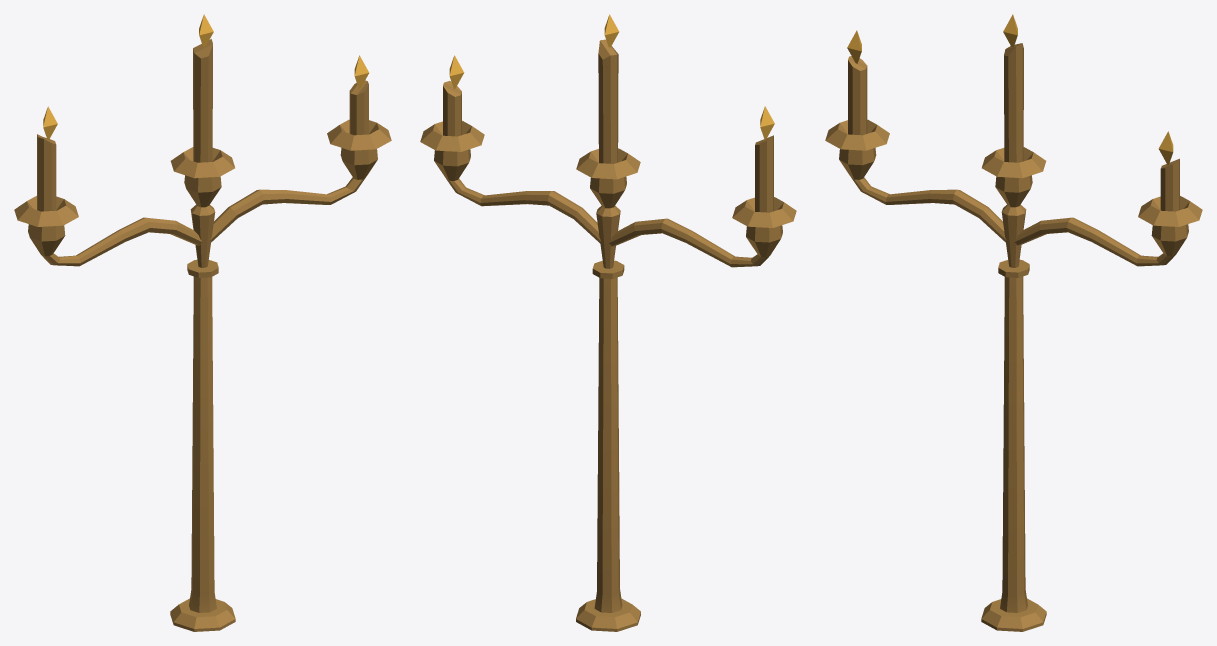
File: candelabra_textured.fbx
3 views of the same model, side by side, from view 1: azimuth 30°, elevation 25°; view 2: azimuth 150°, elevation 25°; view 3: azimuth 330°, elevation 25° (orthographic).
Parts seen in each view (by area): view 1: candlestick, candles, fire1; view 2: candlestick, candles, fire1; view 3: candlestick, candles, fire1.
Boxes of the visible parts, <box> form: candlestick: <box>14,119,391,631</box>; candles: <box>37,39,368,211</box>; fire1: <box>43,14,369,139</box>; candlestick: <box>420,120,796,631</box>; candles: <box>443,39,773,212</box>; fire1: <box>449,14,774,139</box>; candlestick: <box>825,119,1202,631</box>; candles: <box>848,43,1179,211</box>; fire1: <box>847,14,1173,164</box>.
Bounding box in the file's own units: 51.24 × 79.88 × 8.11.
